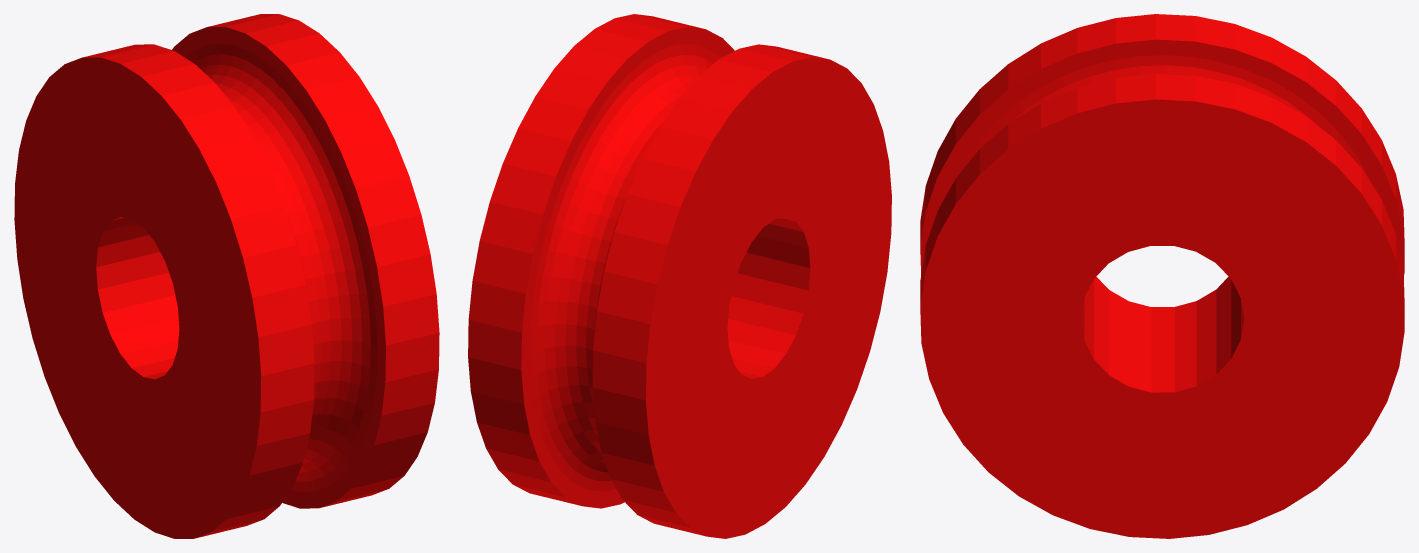
Rendered from power_cart_wr4_visuals_wr4_mesh.obj.
3 renders of one model, left to right at view 1: azimuth 30°, elevation 25°; view 2: azimuth 150°, elevation 25°; view 3: azimuth 270°, elevation 25°, orthographic.
Size of the model in its own units: 0.5 by 1.2 by 1.2.
